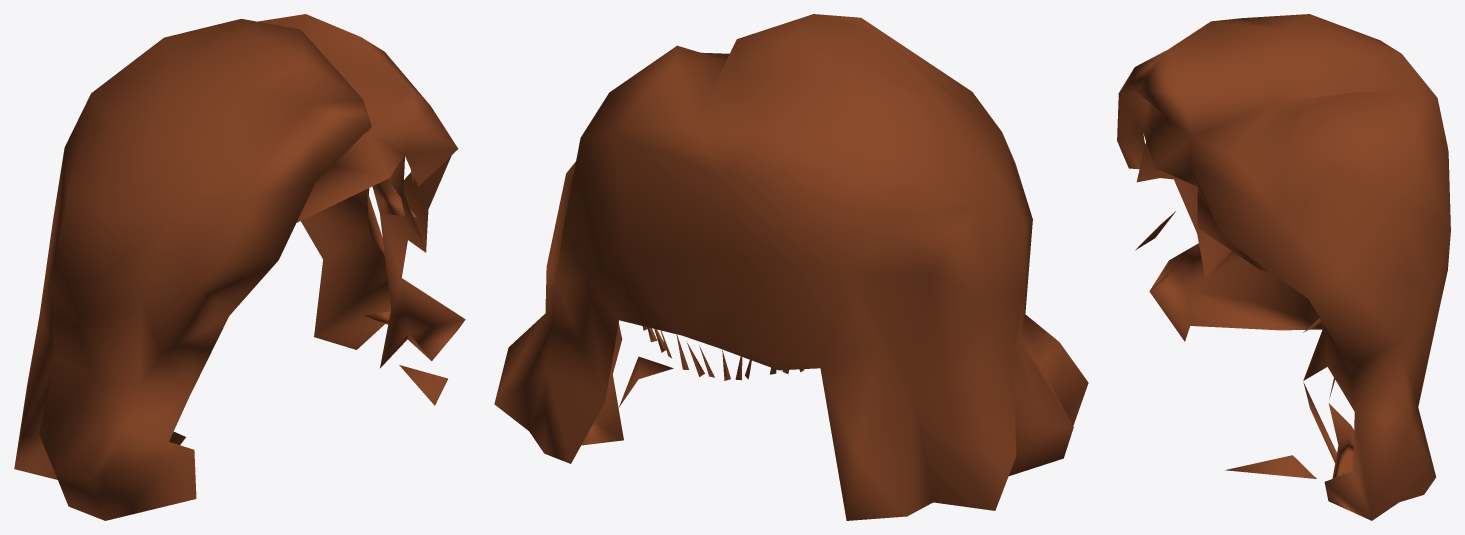
The model's file is long-wavy.glb.
3 renders of one model, left to right at view 1: azimuth 30°, elevation 25°; view 2: azimuth 150°, elevation 25°; view 3: azimuth 270°, elevation 25°, orthographic. The views are drawn at different scales.
Parts seen in each view (by area): view 1: Hair; view 2: Hair, HairPulledRootStrands; view 3: Hair.
Boxes of the visible parts, bbox=[...] form: Hair: bbox=[14, 14, 465, 520]; Hair: bbox=[494, 14, 1088, 520]; HairPulledRootStrands: bbox=[642, 326, 804, 380]; Hair: bbox=[1117, 14, 1450, 520].
Bounding box in the file's own units: 0.7411 × 0.5782 × 0.4569.
